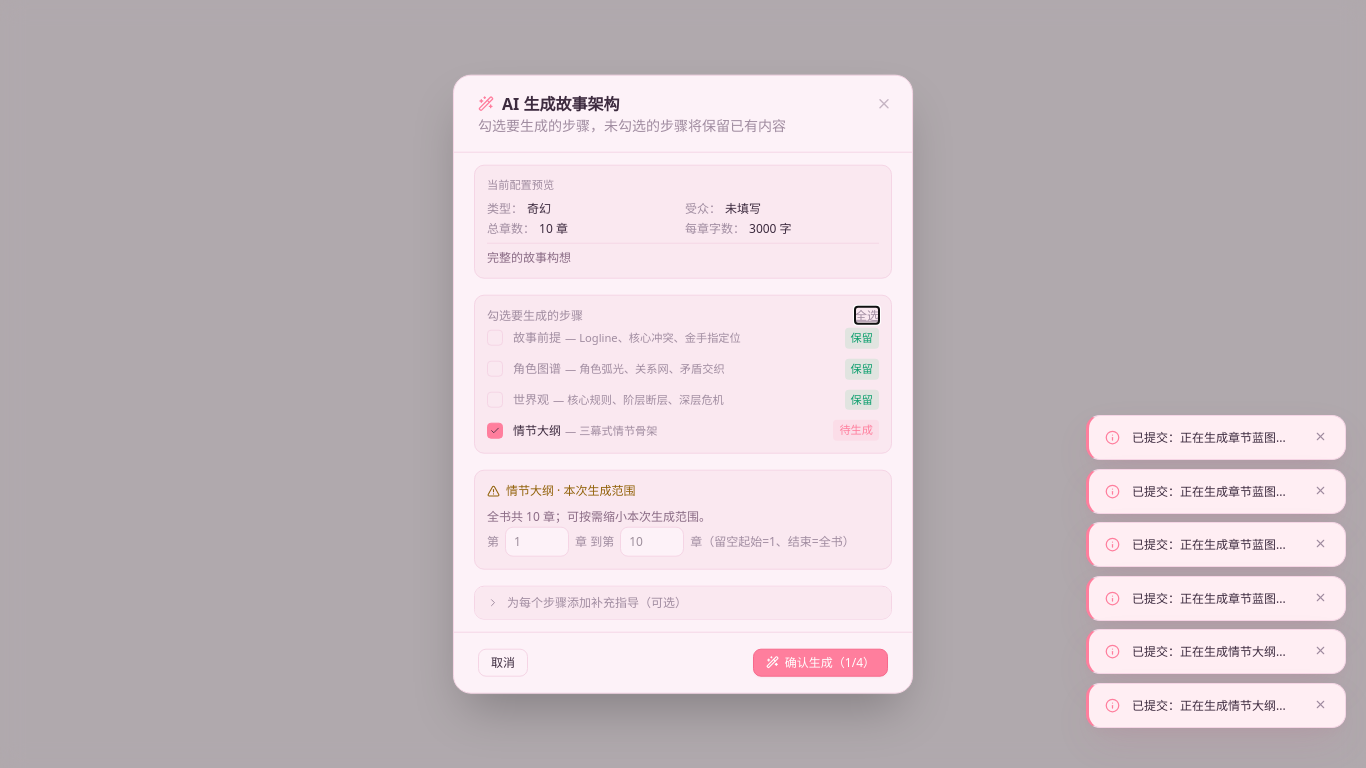
it: workflow launch dialogs › rejects non-empty invalid synopsis range value -1
The image size is (1366, 768).
Step 1. Type "-1" into the number field named "本次生成范围的起始章" → coordinates (537, 541), box x1=505 y1=526 x2=569 y2=556
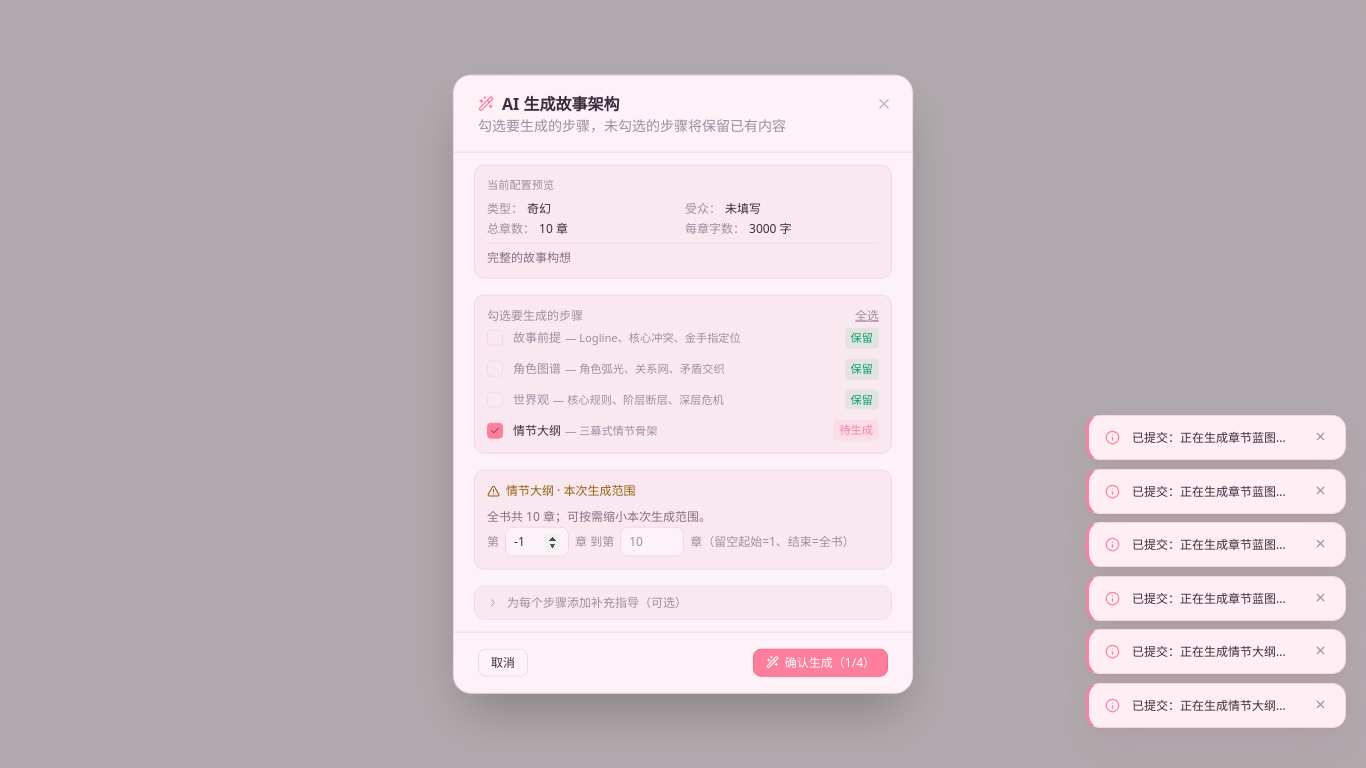
Step 2. Click the button "确认生成（1/4）" → coordinates (820, 662), box x1=753 y1=648 x2=888 y2=676
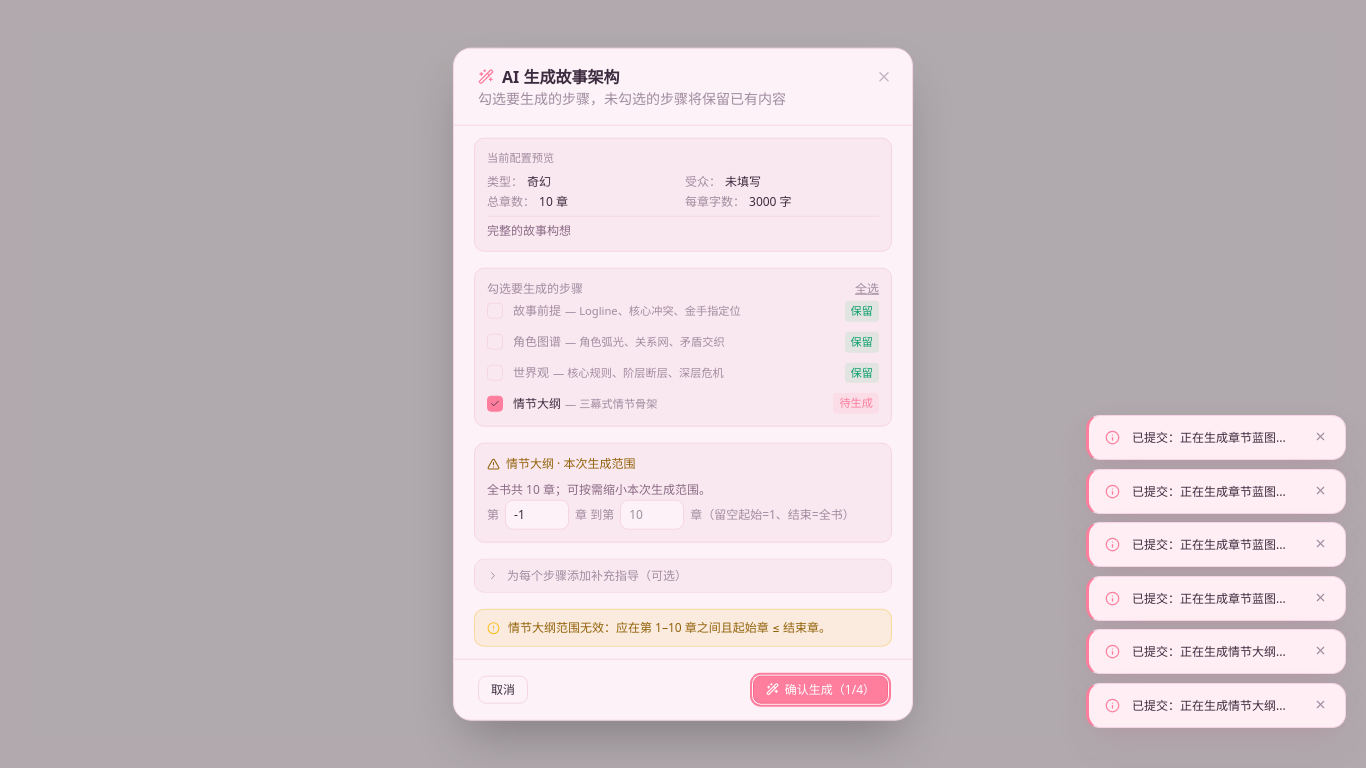
Expected: the text "情节大纲范围无效：应在第 1–10 章之间且起始章 ≤ 结束章。" is shown, x1=508 y1=619 x2=831 y2=635
